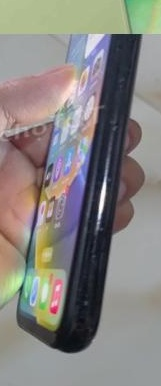scratch: (63, 260, 120, 325), (73, 211, 122, 263), (105, 63, 143, 106), (99, 108, 141, 145)
